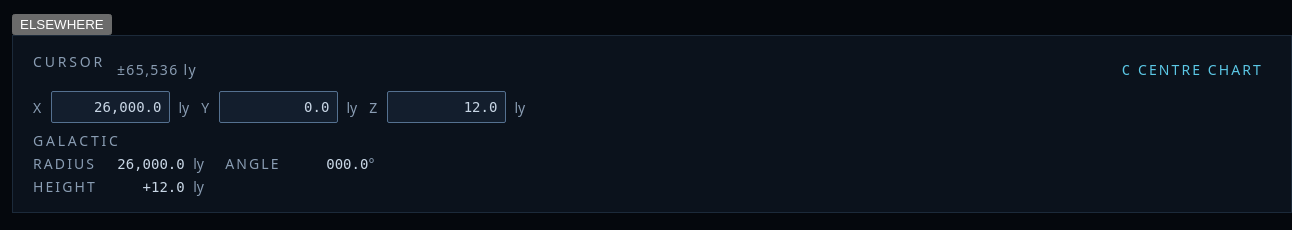
Test: CentreEntry › shows an accepted coordinate in the cursor's format once the field is left
Replace the text in the field labelled "Y" with "50000": (279, 107) [219,91,338,123]
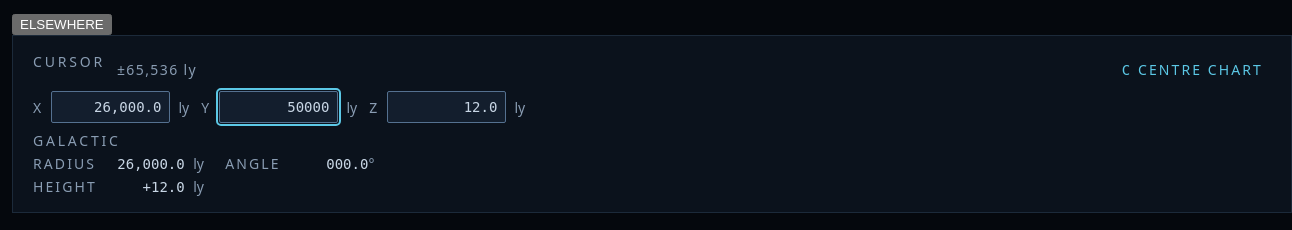
Press Tab
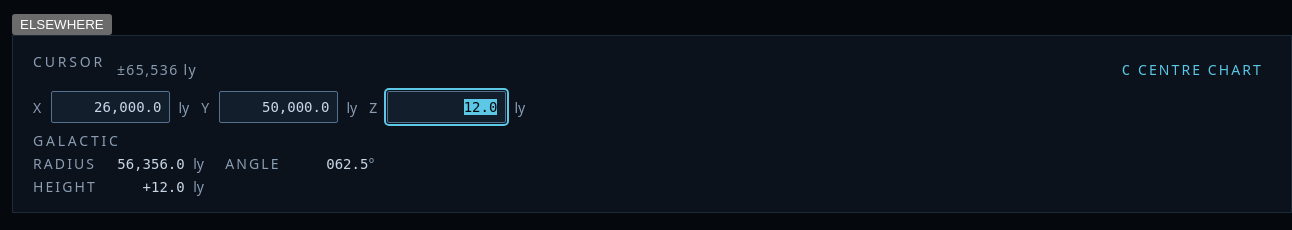
Check: the field labelled "Y" holds "50,000.0", box [219,91,338,123]
